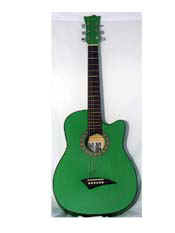guitar: (52, 14, 140, 217)
